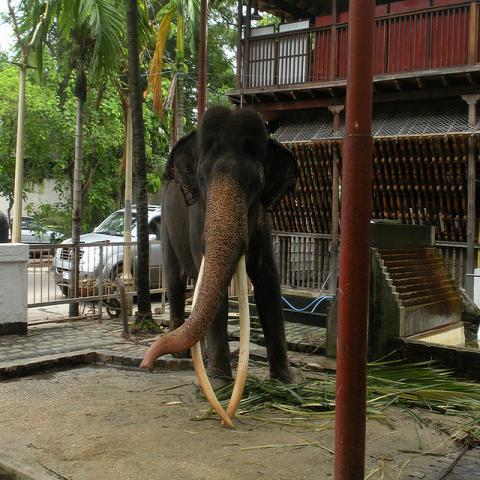car: (52, 206, 166, 296), (22, 216, 66, 259)
